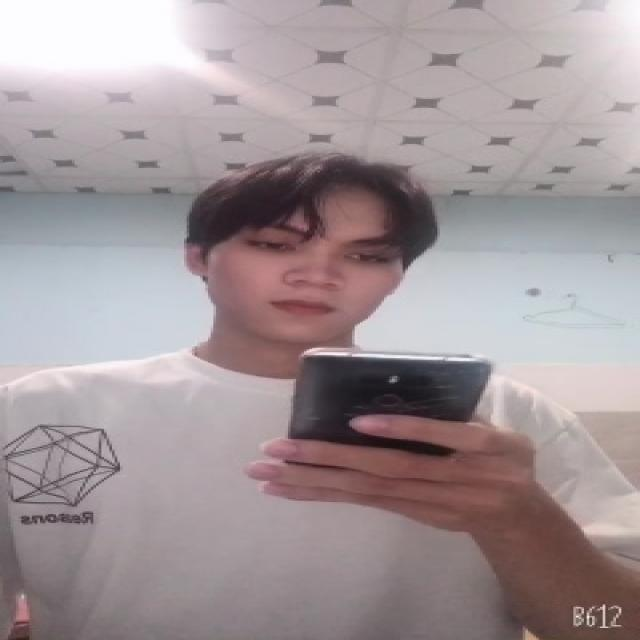Phone: (288, 347, 494, 470)
